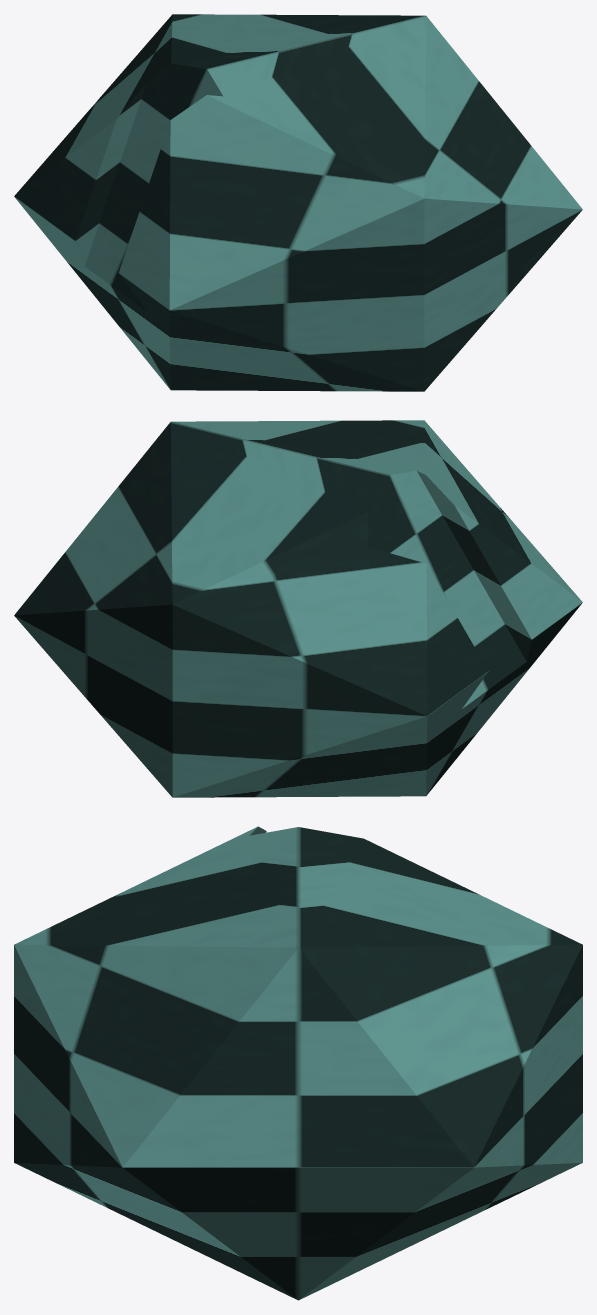
The picture shows the model from 3 angles, top to bottom: view 1: azimuth 30°, elevation 25°; view 2: azimuth 150°, elevation 25°; view 3: azimuth 270°, elevation 25°; orthographic projection. The views are drawn at different scales.
Parts seen in each view (by area): view 1: geometry_0; view 2: geometry_0; view 3: geometry_0.
Boxes of the visible parts, bbox=[...] form: geometry_0: bbox=[14, 14, 582, 391]; geometry_0: bbox=[14, 420, 582, 797]; geometry_0: bbox=[14, 826, 582, 1300].
Size of the model in its own units: 0.7252 by 0.5237 by 0.7655.
1 material, 1 textured.
